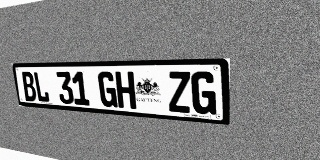1: (70, 72, 90, 106)
3: (56, 72, 74, 104)
B: (21, 72, 37, 102)
G: (191, 71, 216, 115), (97, 72, 118, 108)
H: (115, 72, 136, 109)
L: (33, 72, 50, 103)
Z: (167, 71, 191, 113)
